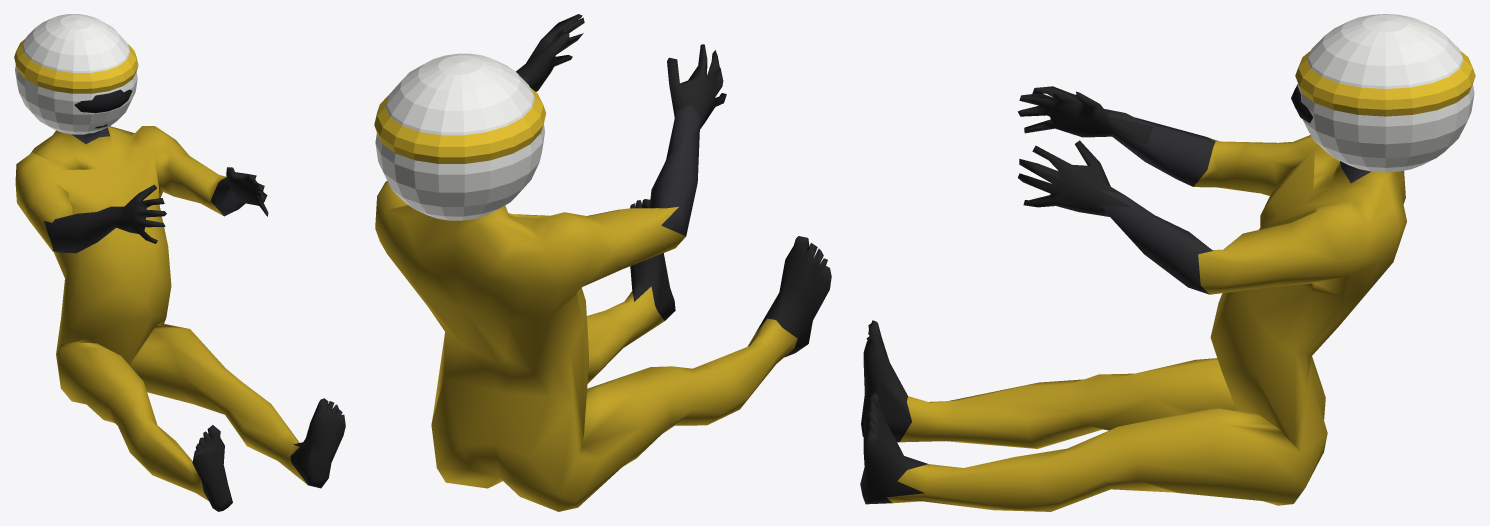
File: driver_23.glb
The picture shows the model from 3 angles, left to right: view 1: azimuth 30°, elevation 25°; view 2: azimuth 150°, elevation 25°; view 3: azimuth 270°, elevation 25°; orthographic projection. The views are drawn at different scales.
Parts seen in each view (by area): view 1: driver_23 people, driver_23; view 2: driver_23 people, driver_23; view 3: driver_23 people, driver_23.
Part boxes in pixels (left/top/right/bottom): driver_23 people: left=15, top=124, right=345, bottom=511; driver_23: left=14, top=14, right=138, bottom=134; driver_23 people: left=375, top=14, right=831, bottom=511; driver_23: left=374, top=53, right=546, bottom=220; driver_23 people: left=860, top=86, right=1406, bottom=511; driver_23: left=1291, top=14, right=1475, bottom=172.
Bounding box in the file's own units: 0.5243 × 0.9272 × 1.12.
